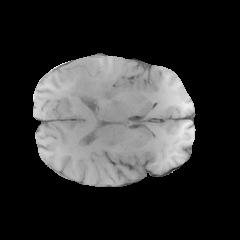glioma: (51, 57, 121, 102)
